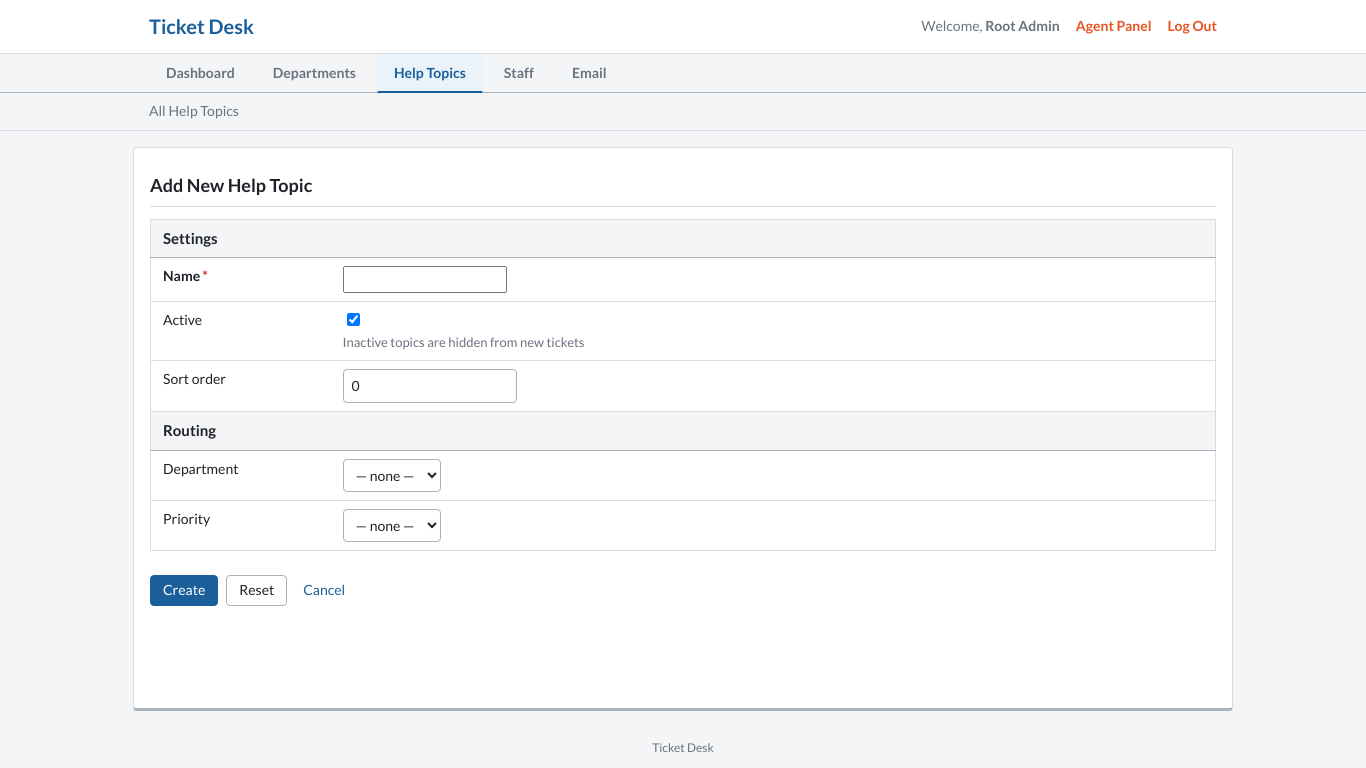
Test: field errors render in their rows
The image size is (1366, 768).
Click the button "Create": (184, 590) [150,575,218,606]
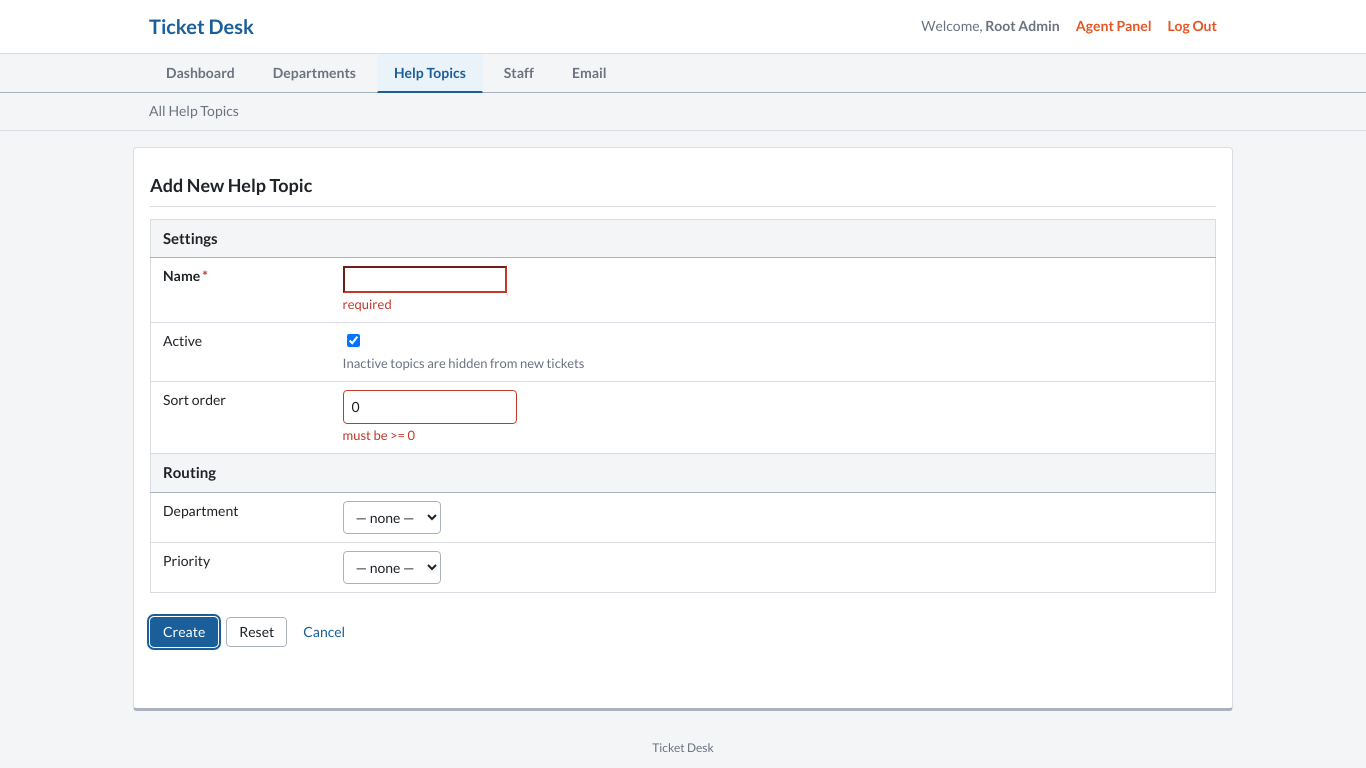
Now the text "required" is shown, box [342,296,392,312]
Now the text "must be >= 0" is shown, box [342,427,415,443]
